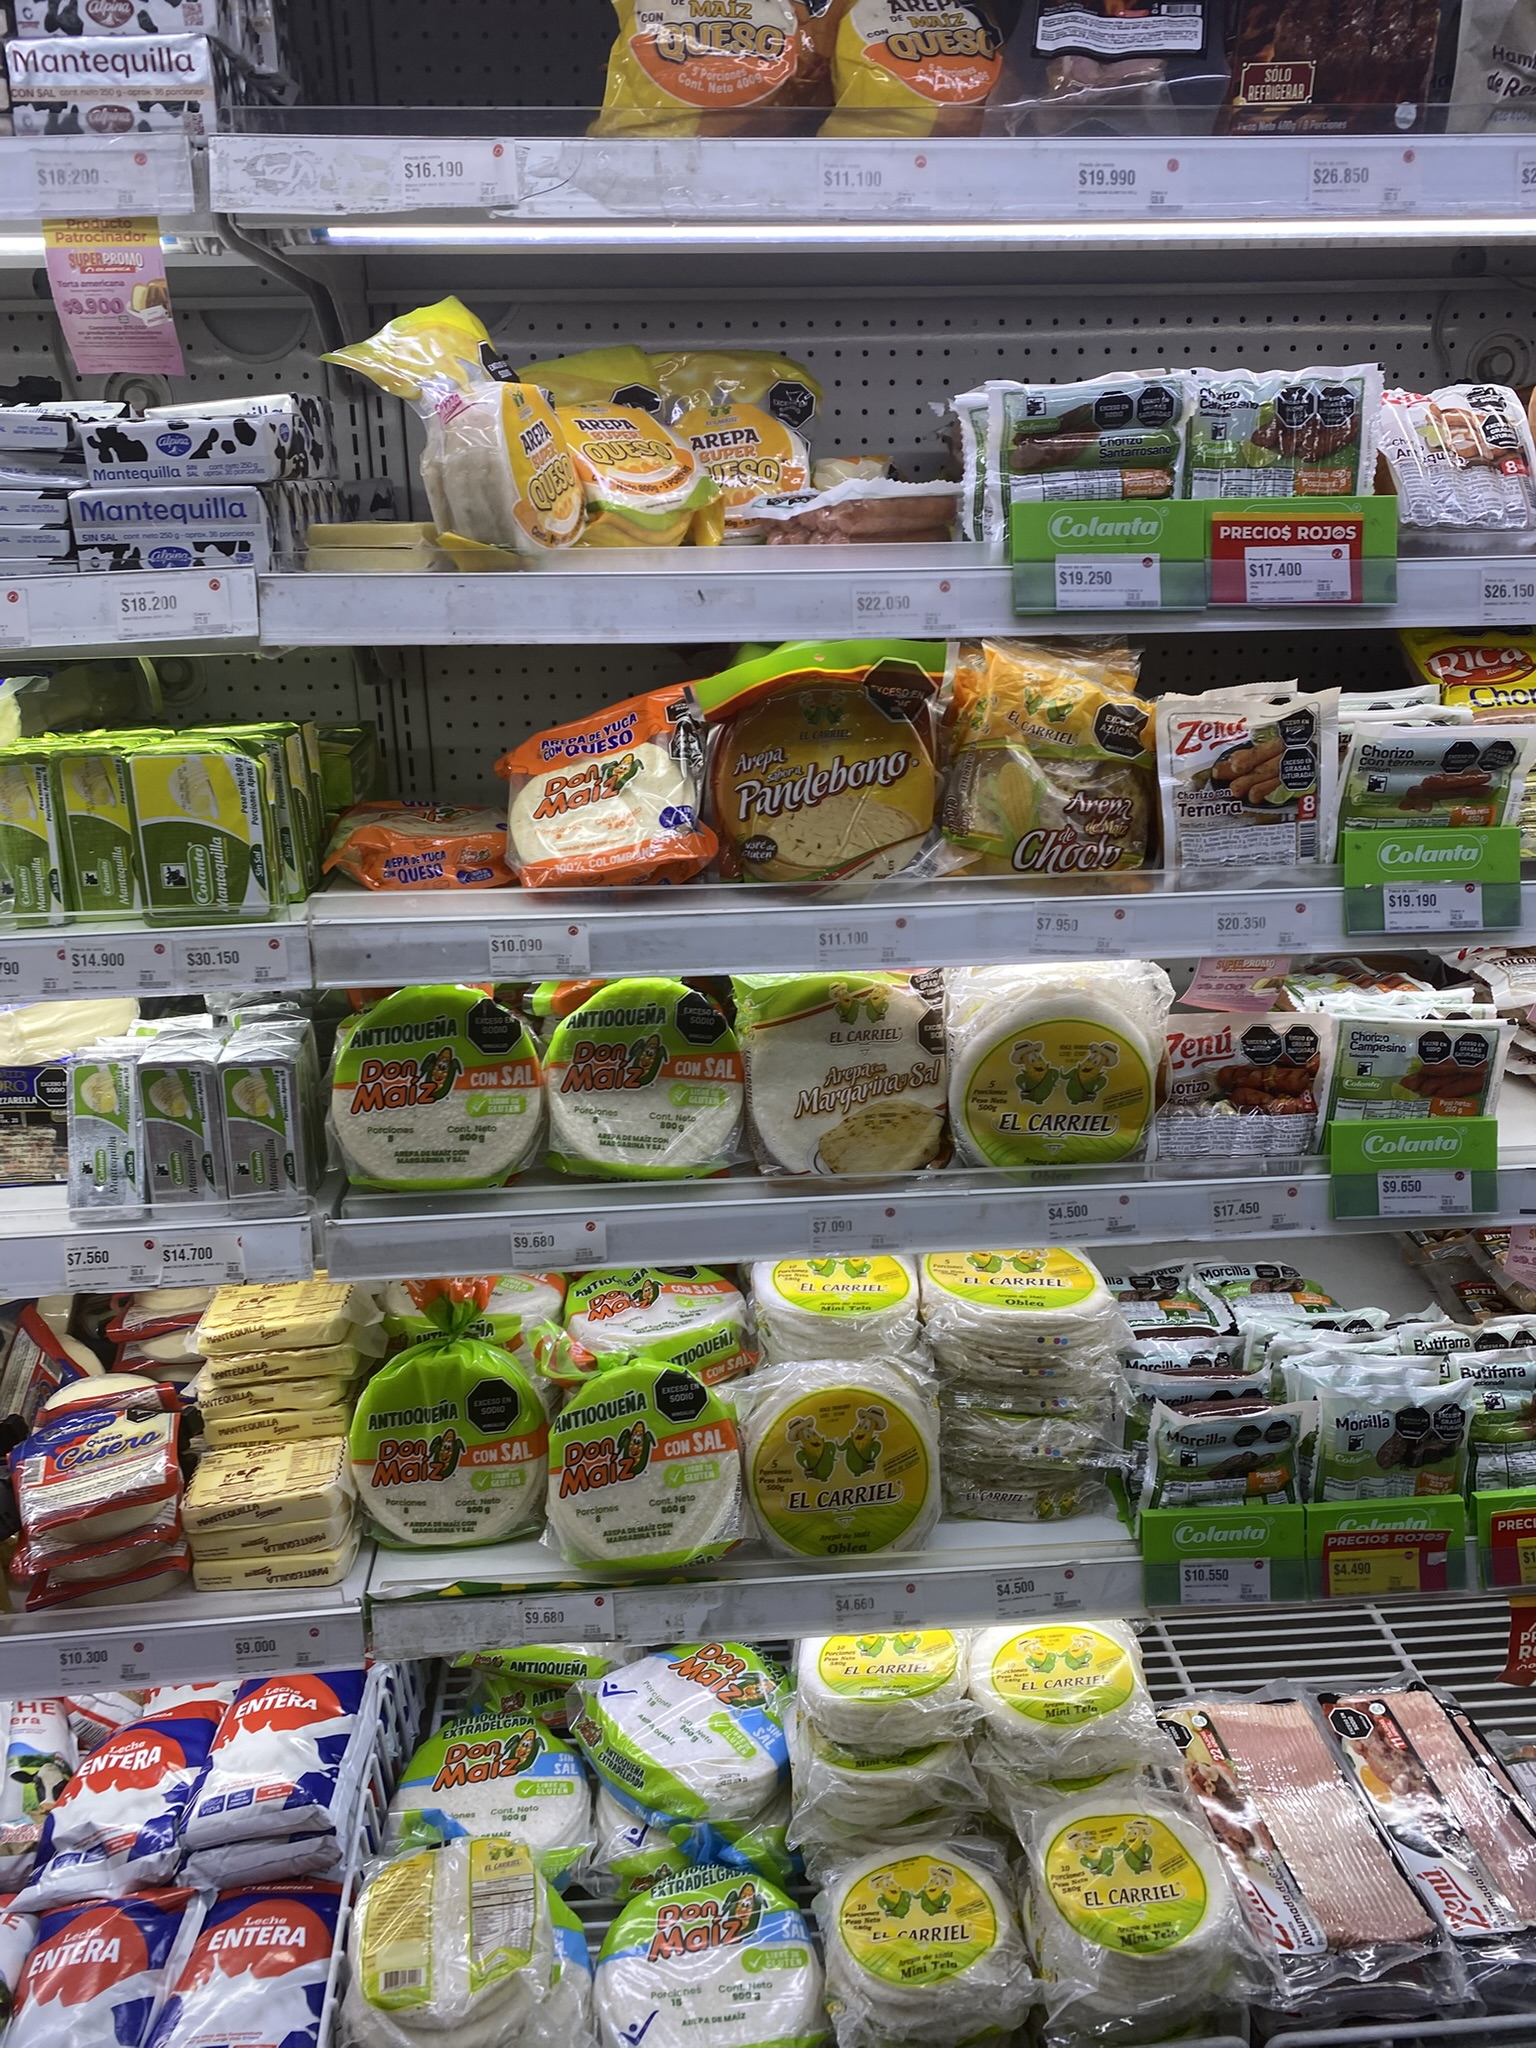Arepa: (958, 980, 1176, 1176), (360, 1809, 552, 2024), (824, 1817, 1010, 2024), (1020, 1804, 1225, 1982), (755, 1372, 921, 1569), (978, 1621, 1152, 1751), (813, 1616, 978, 1748), (941, 1240, 1105, 1359), (750, 1253, 925, 1361)
